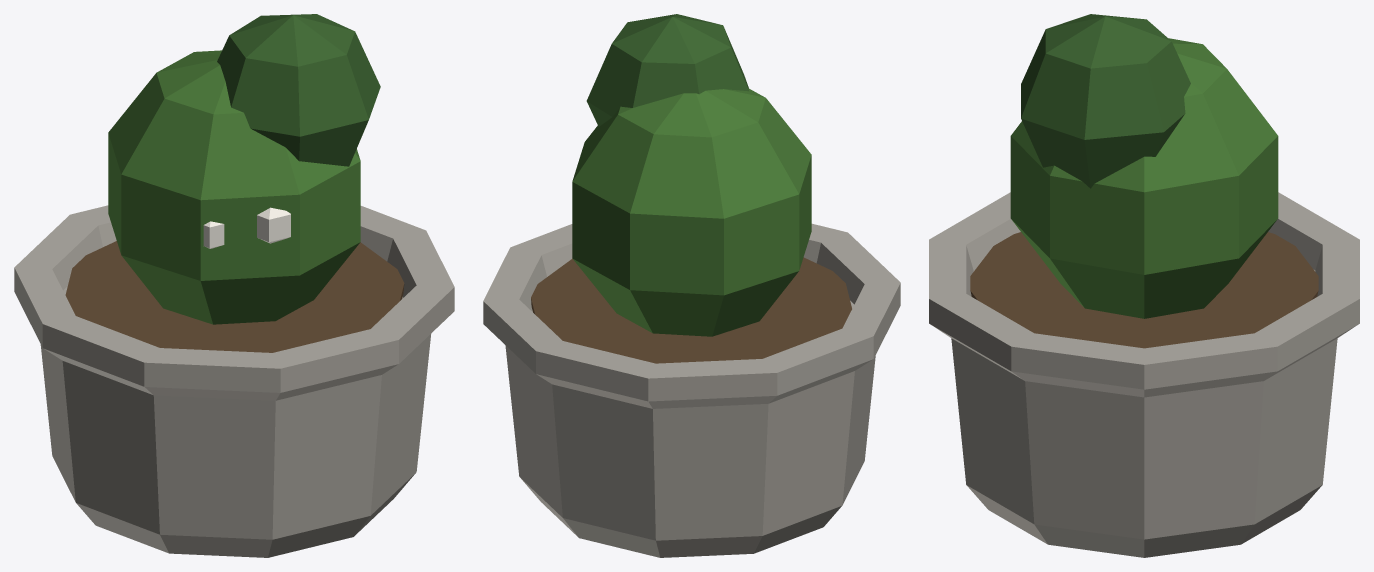
Rendered from planter.glb.
The picture shows the model from 3 angles, left to right: view 1: azimuth 30°, elevation 25°; view 2: azimuth 150°, elevation 25°; view 3: azimuth 270°, elevation 25°; orthographic projection. The views are drawn at different scales.
Visible parts, largest first — view 1: planter; view 2: planter; view 3: planter.
Part boxes in pixels (<box>): planter: <box>14,14,454,557</box>; planter: <box>483,14,900,557</box>; planter: <box>929,14,1359,557</box>.
Bounding box in the file's own units: 1.16 × 1.39 × 1.1.
